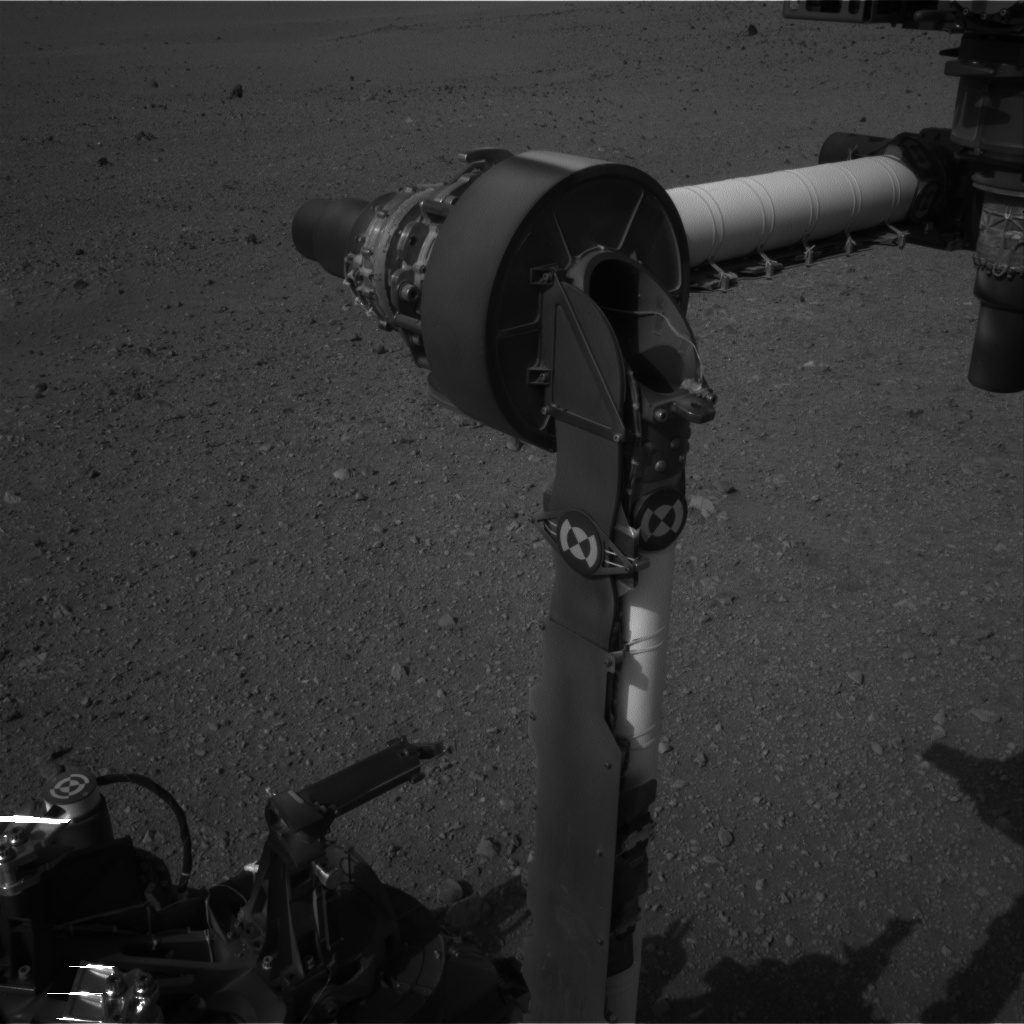soil: (6, 8, 935, 911), (652, 268, 1019, 1019)
